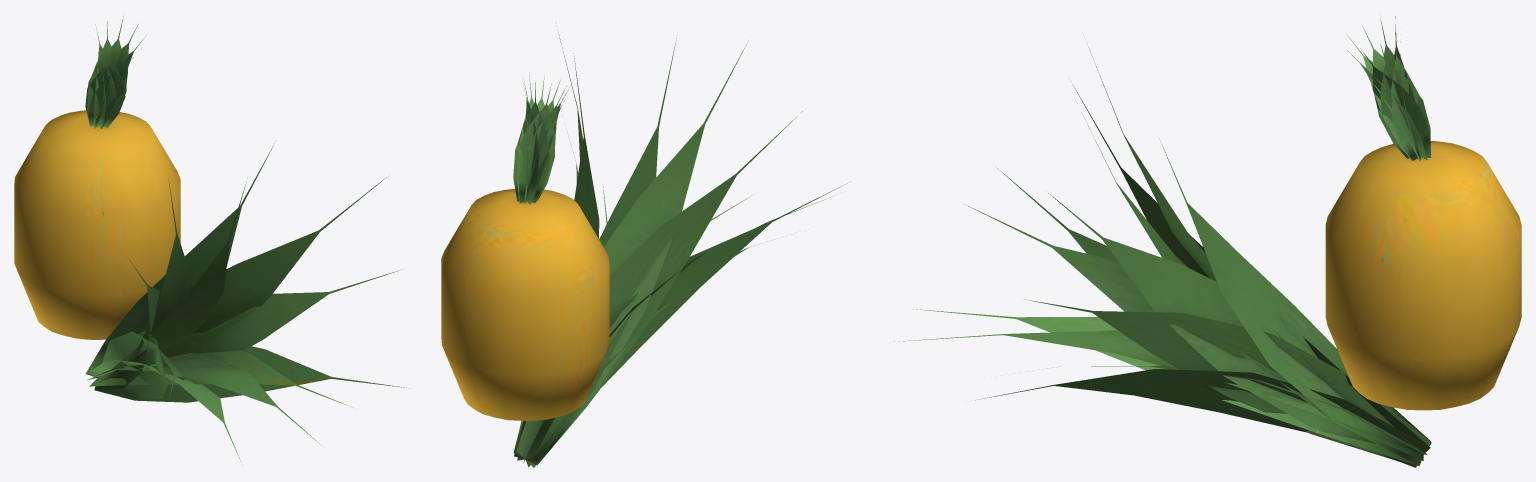
Rendered from crop_pineapple.glb.
The picture shows the model from 3 angles, left to right: view 1: azimuth 30°, elevation 25°; view 2: azimuth 150°, elevation 25°; view 3: azimuth 270°, elevation 25°; orthographic projection. The views are drawn at different scales.
Visible parts, largest first — view 1: crop_pineapple, fruit; view 2: fruit, crop_pineapple; view 3: crop_pineapple, fruit.
Boxes of the visible parts, <box> form: crop_pineapple: <box>85,16,406,465</box>; fruit: <box>14,110,180,339</box>; fruit: <box>441,188,609,420</box>; crop_pineapple: <box>513,34,851,467</box>; crop_pineapple: <box>894,16,1431,467</box>; fruit: <box>1325,141,1521,410</box>.
Bounding box in the file's own units: 0.2292 × 0.2923 × 0.3767.
1 material, 1 textured.
